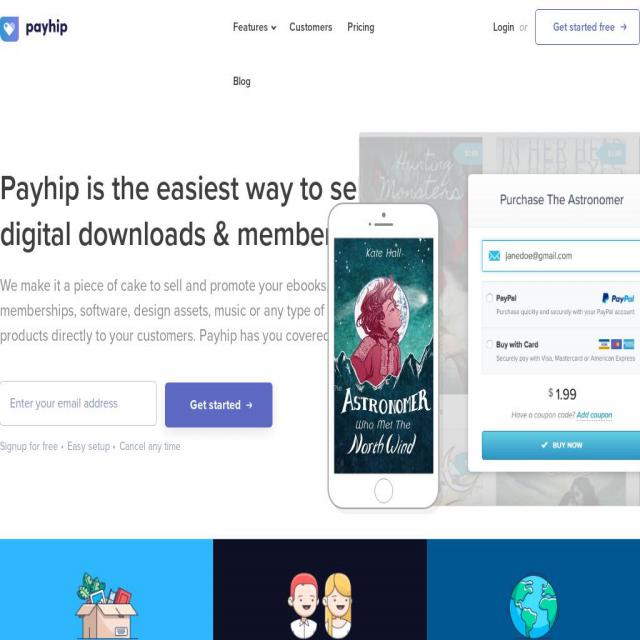button: (0, 538, 214, 640), (213, 538, 427, 640), (426, 538, 640, 640), (165, 382, 273, 428), (483, 431, 640, 458), (535, 9, 640, 45), (0, 10, 77, 51), (289, 0, 333, 54), (233, 0, 275, 54), (347, 0, 375, 54), (494, 0, 514, 54), (233, 54, 251, 108)
field: (481, 327, 640, 372), (482, 283, 640, 326), (0, 382, 156, 425), (482, 240, 640, 271)
